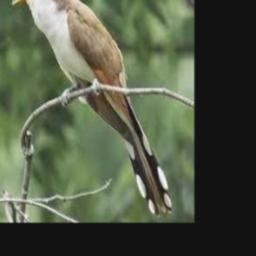Cuckoo: (13, 0, 173, 216)
